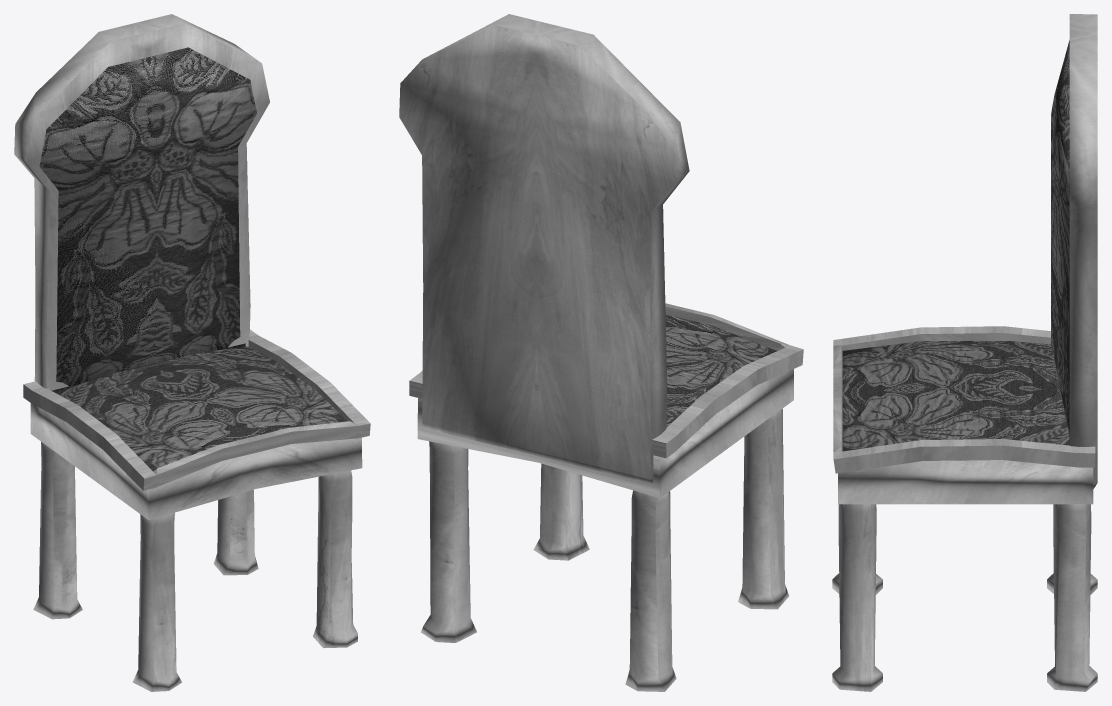
Rendered from chair_mansion_alternative_white.dae.
3 renders of one model, left to right at view 1: azimuth 30°, elevation 25°; view 2: azimuth 150°, elevation 25°; view 3: azimuth 270°, elevation 25°, orthographic. The views are drawn at different scales.
Visible parts, largest first — view 1: Cube; view 2: Cube; view 3: Cube.
Part boxes in pixels (x1=…): Cube: x1=14, y1=14, x2=370, y2=691; Cube: x1=399, y1=14, x2=803, y2=691; Cube: x1=832, y1=14, x2=1097, y2=691.
Size of the model in its own units: 0.6231 by 0.5437 by 1.36.
